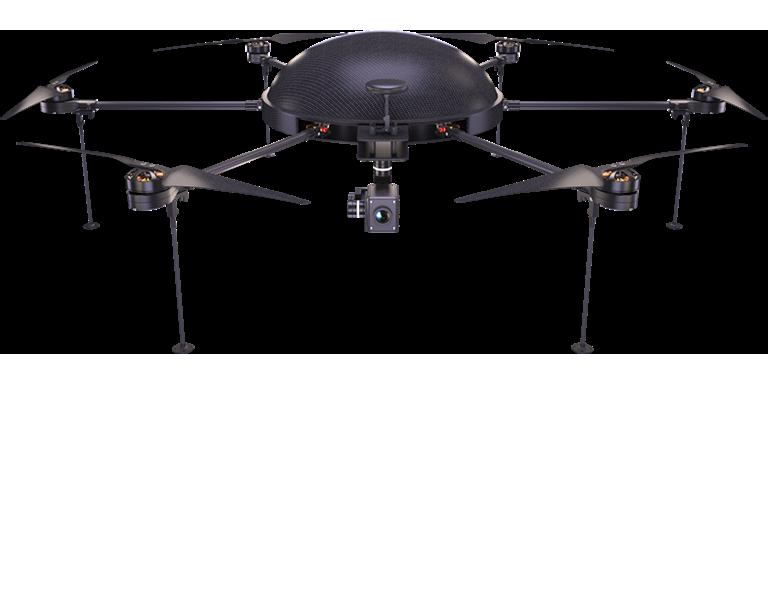drone: (2, 21, 768, 254)
